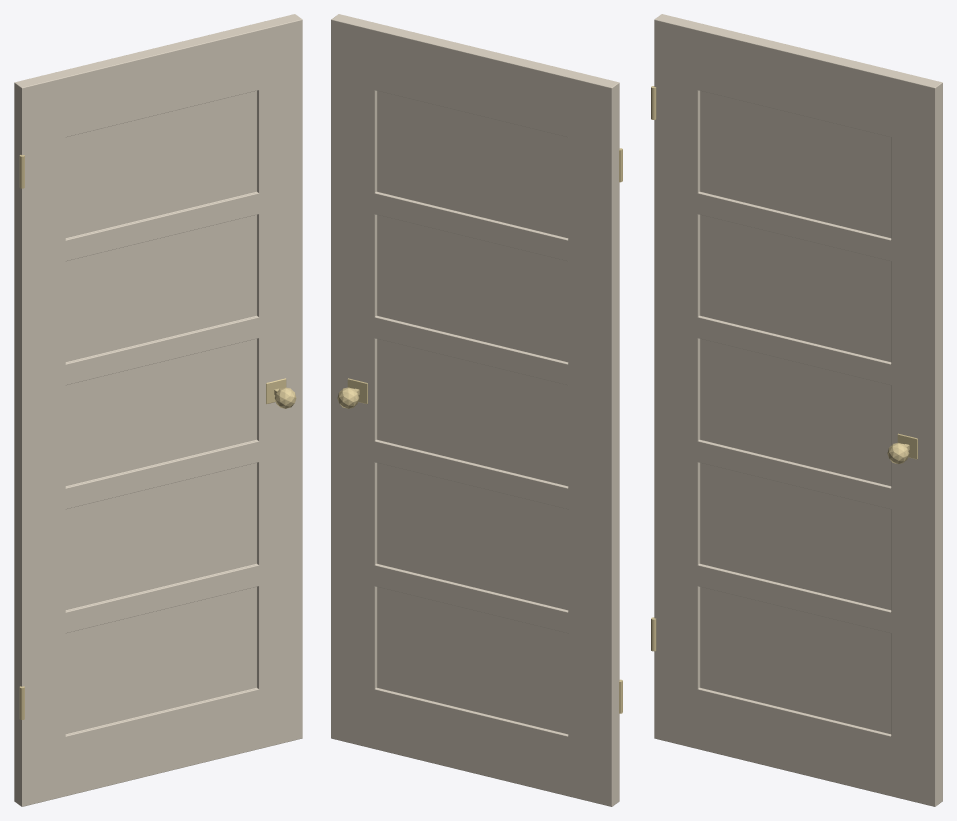
Rendered from door_bath.glb.
3 views of the same model, side by side, from view 1: azimuth 30°, elevation 25°; view 2: azimuth 150°, elevation 25°; view 3: azimuth 330°, elevation 25° (orthographic).
Visible parts, largest first — view 1: door_bath_door_int, door_bath_brass; view 2: door_bath_door_int, door_bath_brass; view 3: door_bath_door_int, door_bath_brass.
Part boxes in pixels (x1=…): door_bath_door_int: x1=14, y1=14, x2=302, y2=806; door_bath_brass: x1=19, y1=155, x2=296, y2=719; door_bath_door_int: x1=331, y1=14, x2=619, y2=806; door_bath_brass: x1=337, y1=148, x2=622, y2=713; door_bath_door_int: x1=654, y1=14, x2=942, y2=806; door_bath_brass: x1=651, y1=86, x2=917, y2=651.
Bounding box in the file's own units: 0.837 × 2.03 × 0.196.
